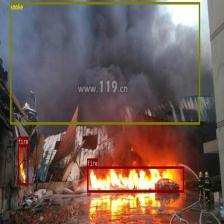fire: (87, 166, 184, 192), (18, 144, 28, 184)
smoke: (10, 2, 200, 124)
